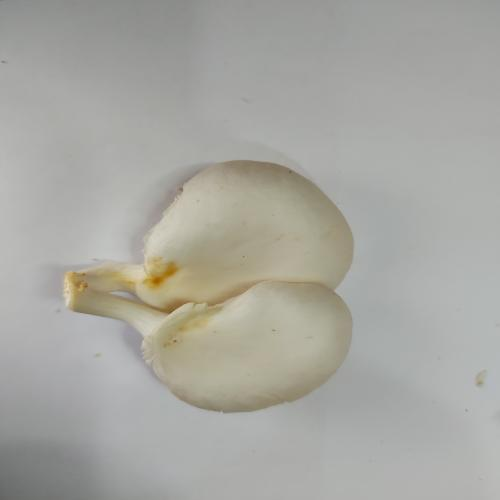Oyster Mushroom: (62, 159, 356, 413)
